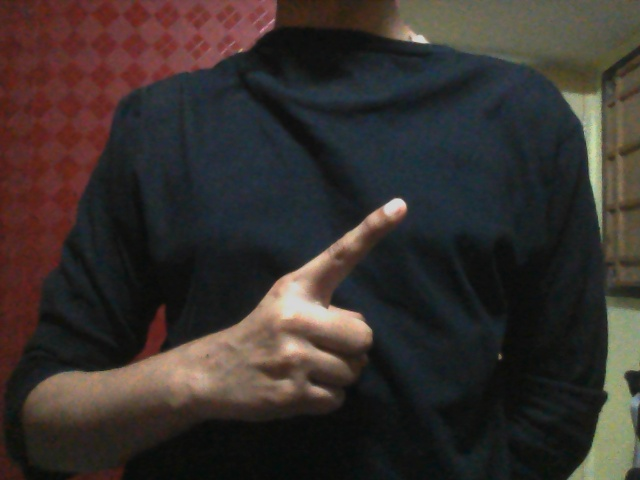I: (238, 195, 411, 423)
